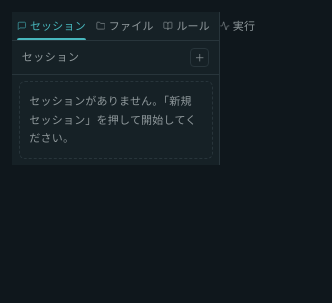
Test: Sidebar › ③ Rules tab クリックで activeTab=rules に切替・rules tabpanel が表示
Step 1. Click the tab with test id "sidebar-tab-rules" → (187, 26), box [158, 12, 215, 40]
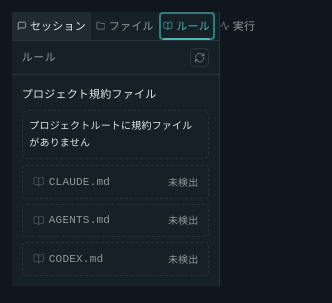
Check: the panel with test id "sidebar-panel-rules" is shown, box [12, 41, 219, 286]
